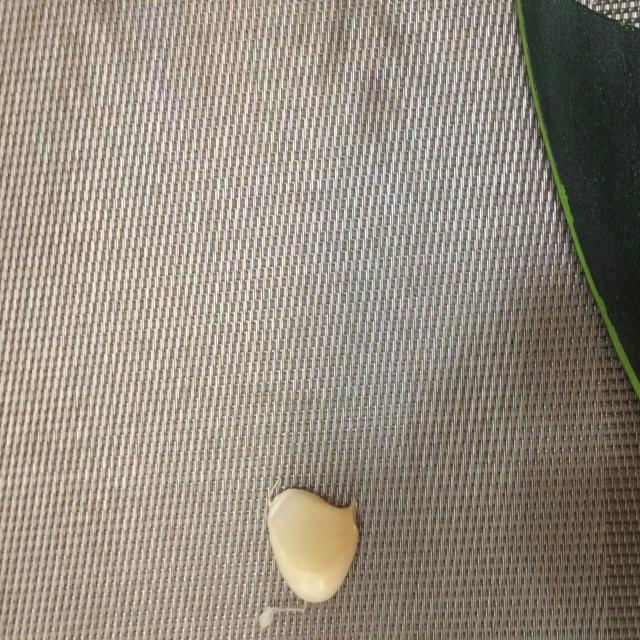garlic: (265, 482, 365, 610)
